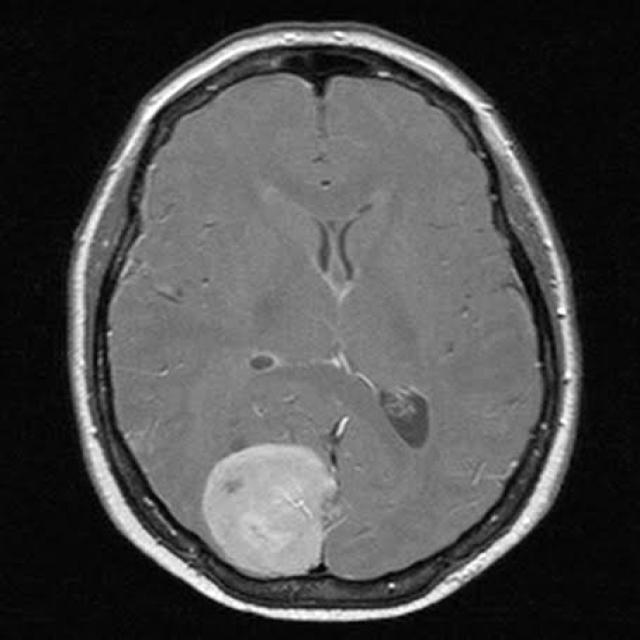brain_tumor: (202, 444, 338, 578)
